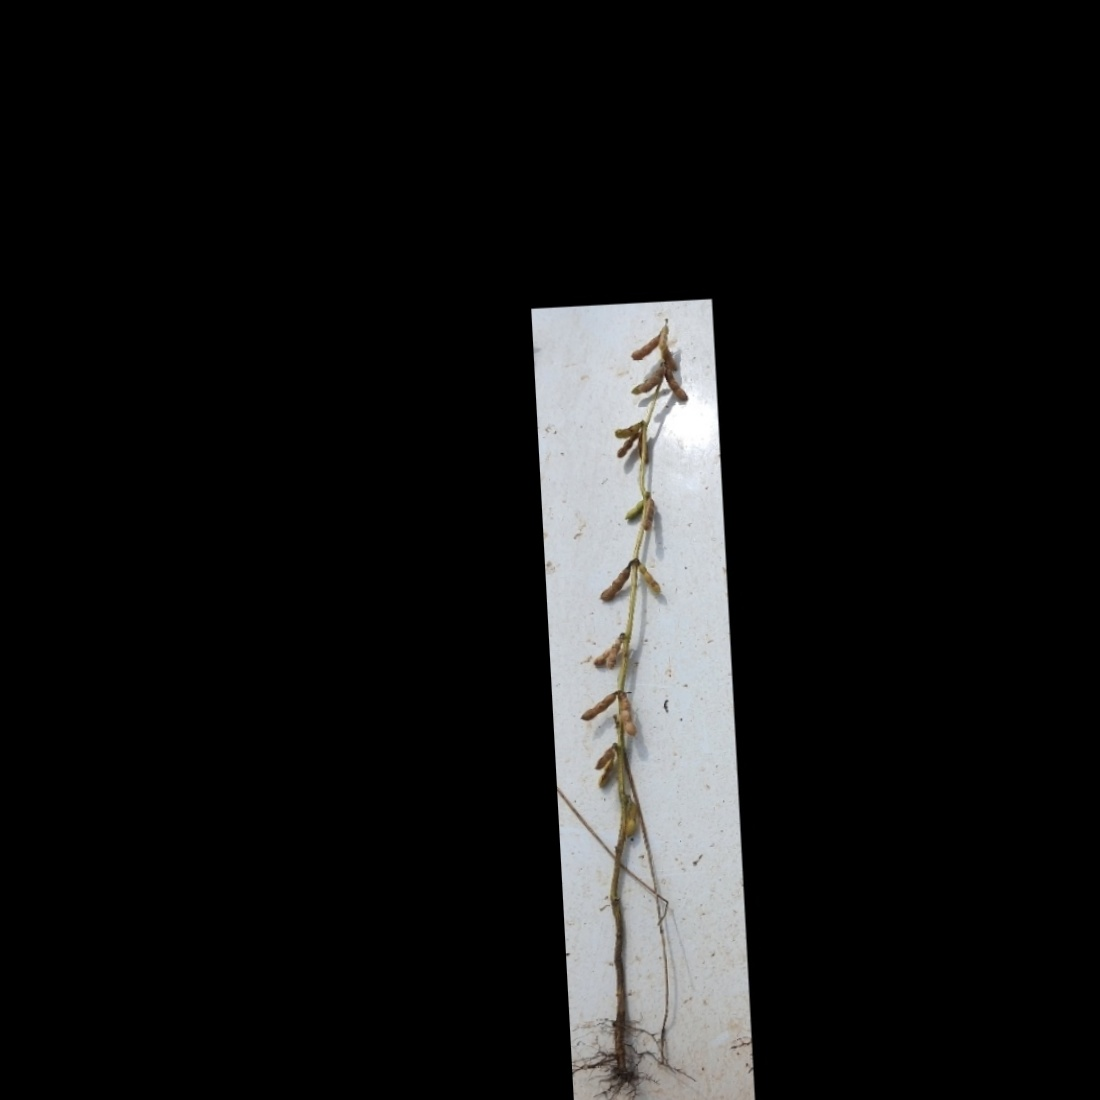pod: (596, 560, 634, 604), (577, 689, 618, 723), (630, 555, 661, 595), (613, 690, 638, 737), (664, 369, 690, 404), (628, 332, 659, 360), (623, 797, 640, 838), (621, 494, 647, 519), (614, 434, 639, 460), (640, 498, 654, 532)
soy: (538, 315, 739, 1097)
